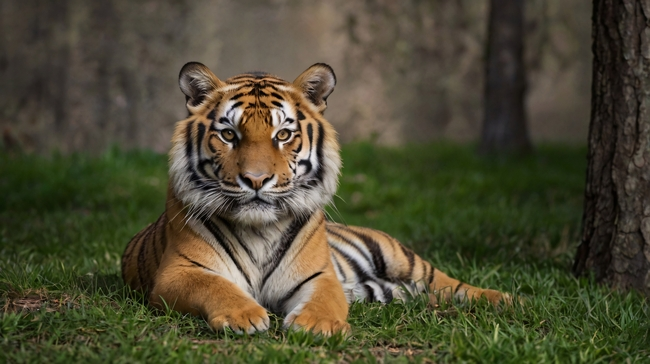tiger: (121, 59, 532, 336)
